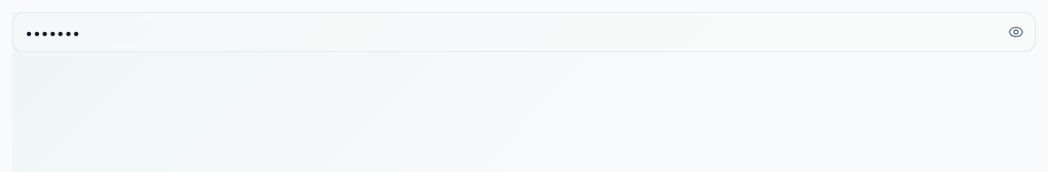
Test case: hidden until it is asked for › shows the password when the eye is pressed
The image size is (1048, 172).
Click the button named "password" at (1016, 32), box [996,12,1036,52]
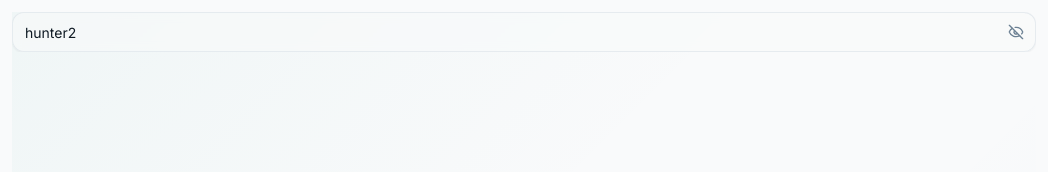
expect the field named "Password" holds "hunter2": met, box [12,12,1036,52]
expect the field named "Password" shows its text: met, box [12,12,1036,52]
